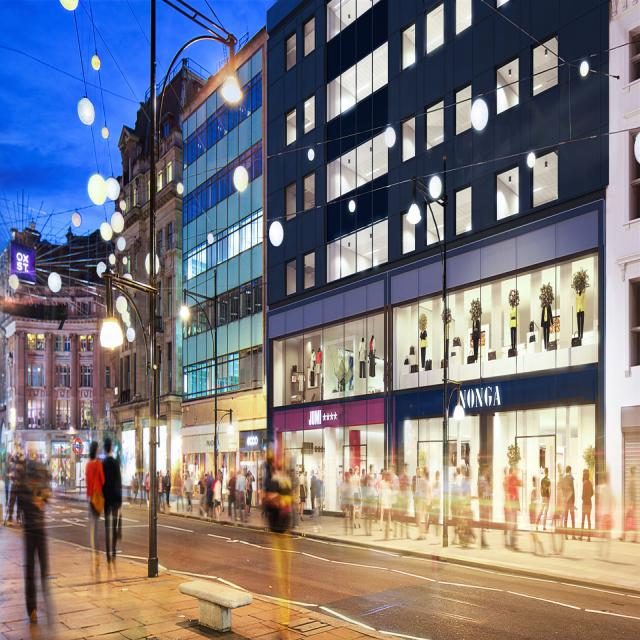Street Light: (145, 1, 243, 577), (409, 154, 451, 548), (182, 271, 224, 516)
